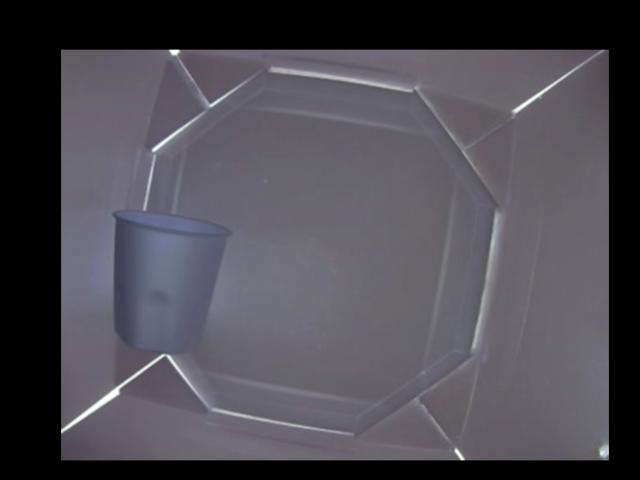Cup: (110, 207, 232, 354)
